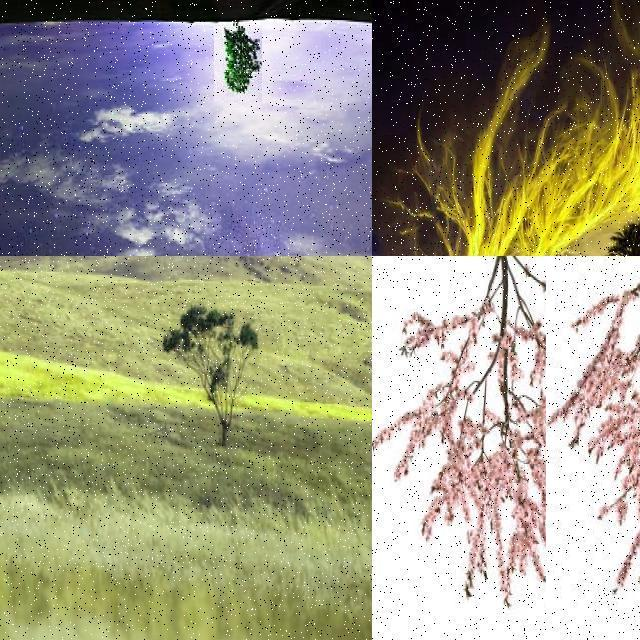tree: (372, 256, 640, 628), (546, 256, 640, 608), (164, 305, 264, 435), (214, 26, 262, 102)
